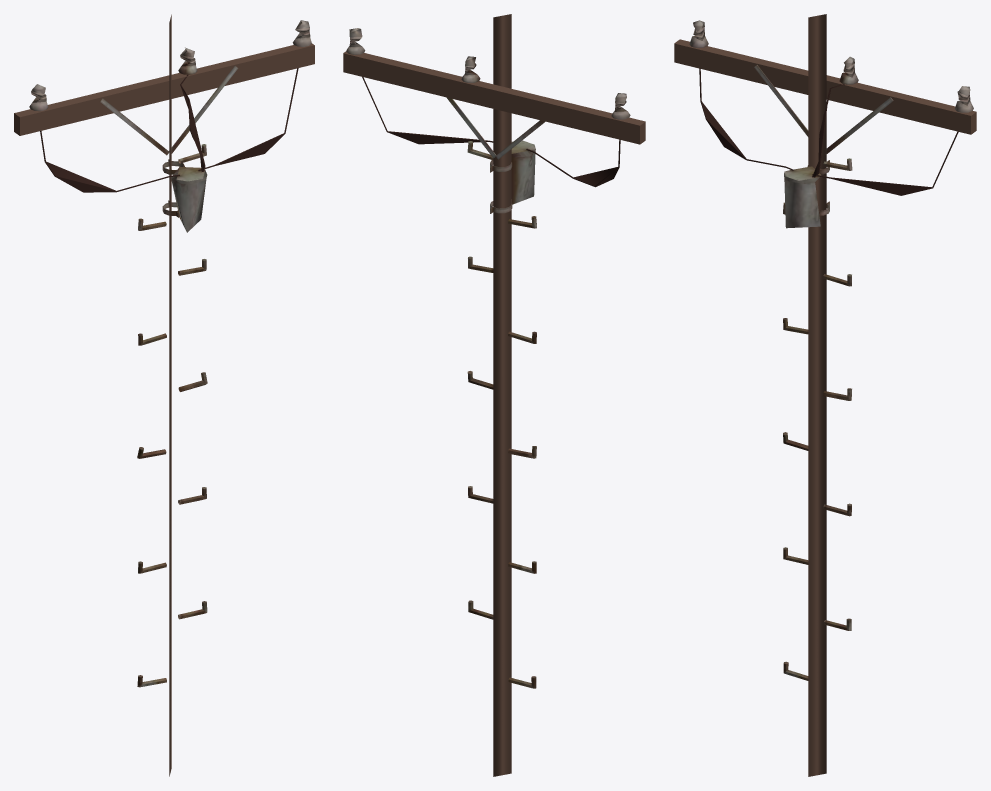
The model's file is pole-transformer.lod1.glb.
3 renders of one model, left to right at view 1: azimuth 30°, elevation 25°; view 2: azimuth 150°, elevation 25°; view 3: azimuth 330°, elevation 25°, orthographic.
Visible parts, largest first — view 1: pCylinder57_Wire_0, pCylinder37_Metal_0; view 2: pCylinder57_Wire_0, pCylinder37_Metal_0; view 3: pCylinder57_Wire_0, pCylinder37_Metal_0.
Part boxes in pixels (x1=…): pCylinder57_Wire_0: x1=14, y1=14, x2=314, y2=776; pCylinder37_Metal_0: x1=29, y1=20, x2=311, y2=687; pCylinder57_Wire_0: x1=343, y1=14, x2=645, y2=776; pCylinder37_Metal_0: x1=346, y1=28, x2=630, y2=688; pCylinder57_Wire_0: x1=674, y1=14, x2=976, y2=776; pCylinder37_Metal_0: x1=689, y1=20, x2=973, y2=680.
Size of the model in its own units: 3.89 by 9.5 by 0.8474.
2 materials, 1 textured.
